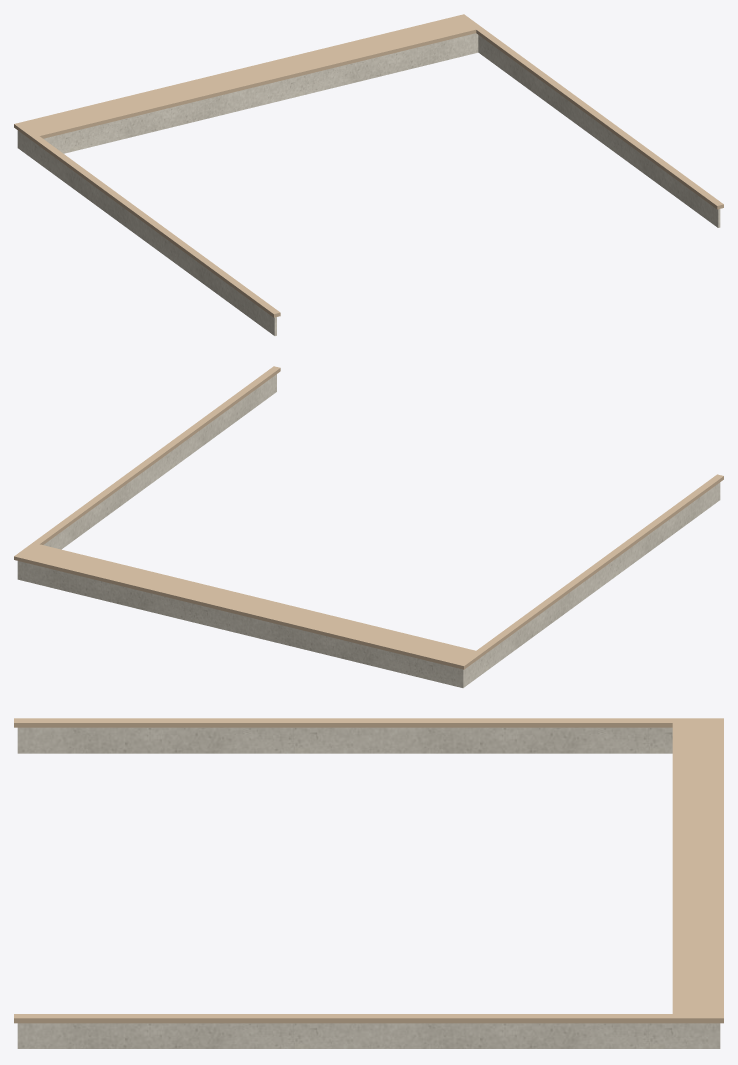
Rendered from stair_core_slab_192_192_29.glb.
The picture shows the model from 3 angles, top to bottom: view 1: azimuth 30°, elevation 25°; view 2: azimuth 150°, elevation 25°; view 3: azimuth 270°, elevation 25°; orthographic projection. The views are drawn at different scales.
Visible parts, largest first — view 1: stair_core_slab_192_192_29_plaster, stair_core_slab_192_192_29_floor; view 2: stair_core_slab_192_192_29_plaster, stair_core_slab_192_192_29_floor; view 3: stair_core_slab_192_192_29_plaster, stair_core_slab_192_192_29_floor.
Boxes of the visible parts, left/top/right/bottom form: stair_core_slab_192_192_29_plaster: left=17, top=33, right=720, bottom=335; stair_core_slab_192_192_29_floor: left=14, top=14, right=723, bottom=317; stair_core_slab_192_192_29_plaster: left=17, top=374, right=720, bottom=687; stair_core_slab_192_192_29_floor: left=14, top=366, right=723, bottom=669; stair_core_slab_192_192_29_plaster: left=17, top=727, right=720, bottom=1048; stair_core_slab_192_192_29_floor: left=14, top=718, right=723, bottom=1023.
Bounding box in the file's own units: 4 × 0.2 × 4.
Materials: 2 (1 with a texture image).
